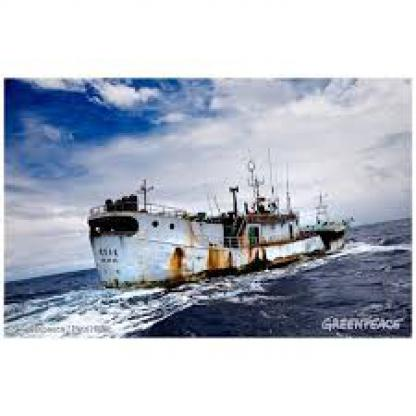fish-b: (81, 146, 359, 298)
